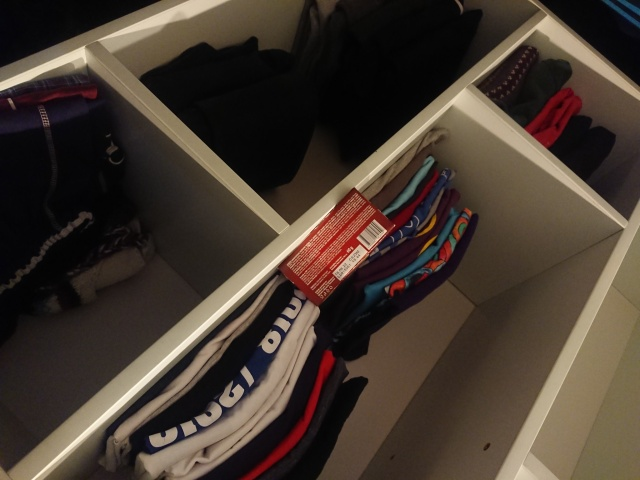Franck Apple Cinnamon Tea 60g: (274, 185, 396, 307)
